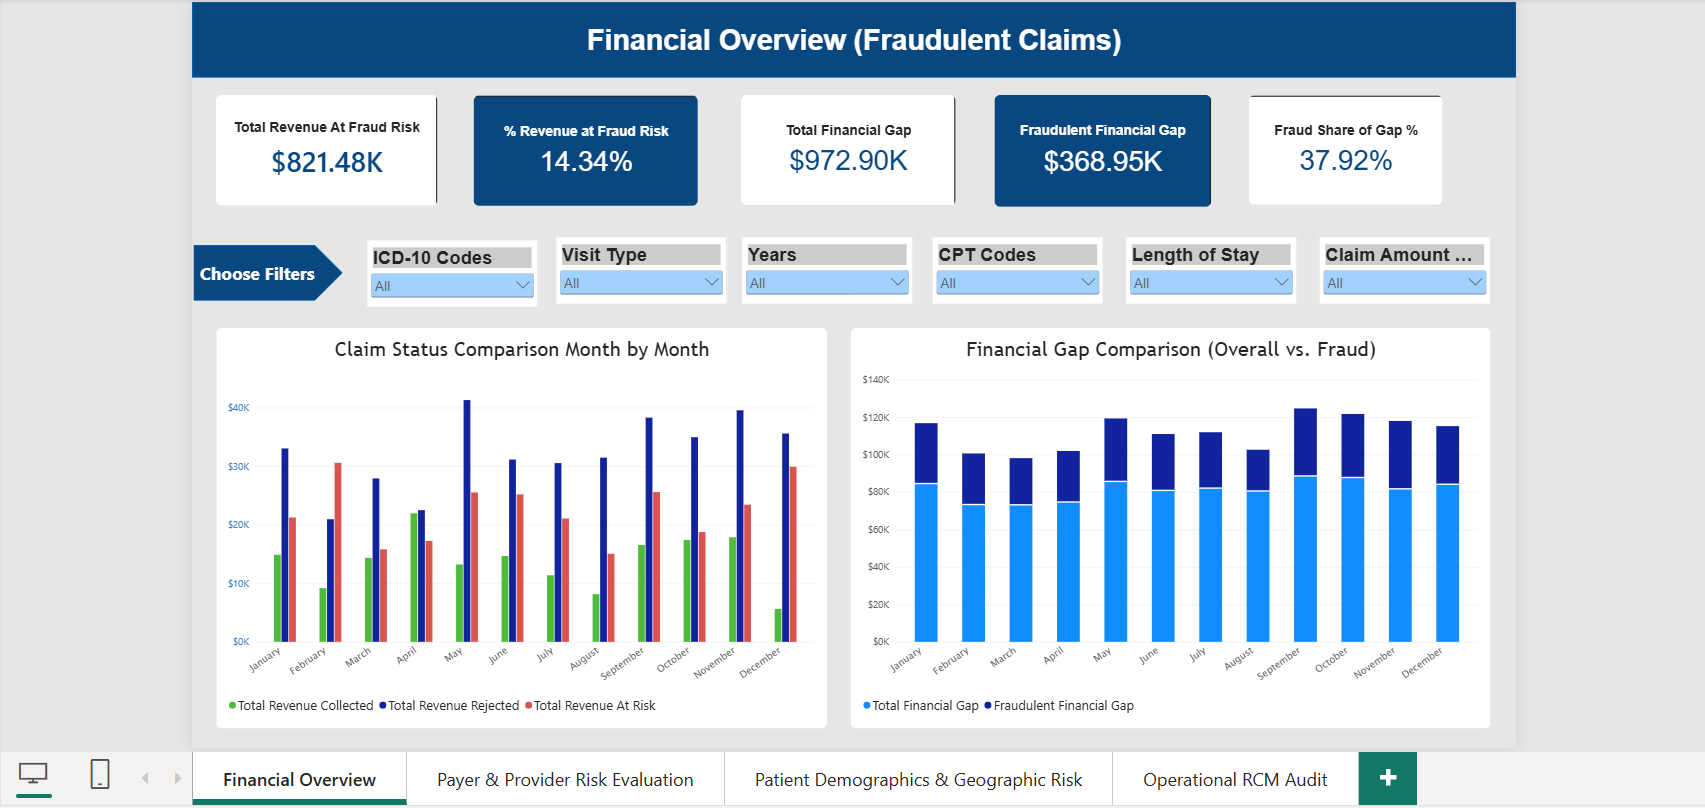

What the dashboard file says about the page in this screenshot:
{"tool":"powerbi","page":{"name":"Financial Overview","canvas":[1920,1080],"ordinal":0},"visuals":[{"type":"cardVisual","fields":{"Data":["ROI Measures.Total Fraud Loss Count"]},"box":[34.9,134.9,321,160.5],"z":0},{"type":"cardVisual","fields":{"Data":["ROI Measures.Current Fraud Rate"]},"box":[407.1,134.9,328,162.8],"z":1000},{"type":"hundredPercentStackedColumnChart","title":"Claim Status Comparison Month by Month","fields":{"Category":["Dim_Date.Claim_Submission_Date.Variation.Date Hierarchy.Month"],"Y":["ROI Measures.Total Revenue Collected","ROI Measures.Total Revenue Rejected","ROI Measures.Total Revenue At Risk"]},"box":[34.9,472.2,886.3,581.6],"z":2000},{"type":"columnChart","title":"Financial Gap Comparison (Overall vs. Fraud)","fields":{"Category":["Dim_Date.Claim_Submission_Date.Variation.Date Hierarchy.Month"],"Y":["ROI Measures.Total Financial Gap","ROI Measures.Fraudulent Financial Gap"]},"box":[953.8,472.2,928.2,581.6],"z":3000},{"type":"cardVisual","fields":{"Data":["ROI Measures.Total Financial Gap"]},"box":[795.6,134.9,311.7,160.5],"z":4000},{"type":"cardVisual","fields":{"Data":["ROI Measures.Fraudulent Financial Gap"]},"box":[1163.2,134.9,314.1,162.8],"z":5000},{"type":"cardVisual","fields":{"Data":["ROI Measures.Fraud Share of Gap %"]},"box":[1530.7,134.9,283.8,160.5],"z":6000},{"type":"slicer","fields":{"Values":["Fact_Table.Procedure_Code"]},"box":[1072.4,339.6,250,100],"z":7000},{"type":"slicer","fields":{"Values":["Fact_Table.Length_of_Stay"]},"box":[1351.6,339.6,250,100],"z":8000},{"type":"slicer","fields":{"Values":["Fact_Table.Claim_Amount_Bucket"]},"box":[1633.1,339.6,250,100],"z":9000},{"type":"shape","box":[2.3,351.3,216.2,80.8],"z":10000},{"type":"slicer","fields":{"Values":["Fact_Table.Submission_Year"]},"box":[795.6,339.6,250,100],"z":11000},{"type":"slicer","fields":{"Values":["Fact_Table.Visit_Type"]},"box":[525.8,339.6,250,100],"z":12000},{"type":"slicer","fields":{"Values":["Fact_Table.Diagnosis_Code"]},"box":[251.2,344.3,250,100],"z":13000},{"type":"shape","box":[0,0,1919.2,109.3],"z":14000}]}

Visuals, with their boxes on the page's 1920x1080 design canvas (x1, y1, x2, y2). These are canvas units, not pixel positions in the 1705x808 screenshot, which may show the page scaled, cropped or inside an application window:
cardVisual - ROI Measures.Total Fraud Loss Count: {"left": 35, "top": 135, "right": 356, "bottom": 295}
cardVisual - ROI Measures.Current Fraud Rate: {"left": 407, "top": 135, "right": 735, "bottom": 298}
"Claim Status Comparison Month by Month" hundredPercentStackedColumnChart: {"left": 35, "top": 472, "right": 921, "bottom": 1054}
"Financial Gap Comparison (Overall vs. Fraud)" columnChart: {"left": 954, "top": 472, "right": 1882, "bottom": 1054}
cardVisual - ROI Measures.Total Financial Gap: {"left": 796, "top": 135, "right": 1107, "bottom": 295}
cardVisual - ROI Measures.Fraudulent Financial Gap: {"left": 1163, "top": 135, "right": 1477, "bottom": 298}
cardVisual - ROI Measures.Fraud Share of Gap %: {"left": 1531, "top": 135, "right": 1814, "bottom": 295}
slicer - Fact_Table.Procedure_Code: {"left": 1072, "top": 340, "right": 1322, "bottom": 440}
slicer - Fact_Table.Length_of_Stay: {"left": 1352, "top": 340, "right": 1602, "bottom": 440}
slicer - Fact_Table.Claim_Amount_Bucket: {"left": 1633, "top": 340, "right": 1883, "bottom": 440}
shape: {"left": 2, "top": 351, "right": 218, "bottom": 432}
slicer - Fact_Table.Submission_Year: {"left": 796, "top": 340, "right": 1046, "bottom": 440}
slicer - Fact_Table.Visit_Type: {"left": 526, "top": 340, "right": 776, "bottom": 440}
slicer - Fact_Table.Diagnosis_Code: {"left": 251, "top": 344, "right": 501, "bottom": 444}
shape: {"left": 0, "top": 0, "right": 1919, "bottom": 109}
